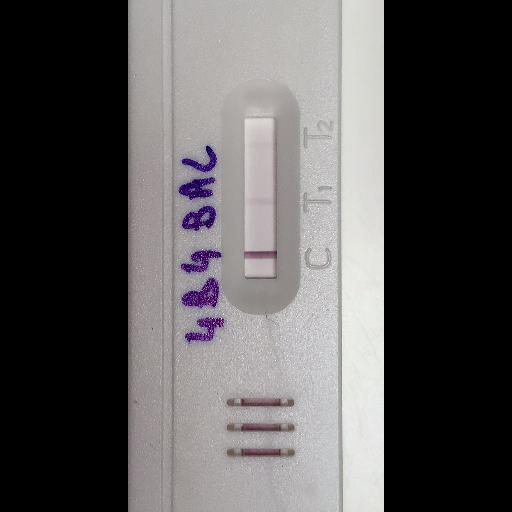Pos: (128, 1, 342, 511)
